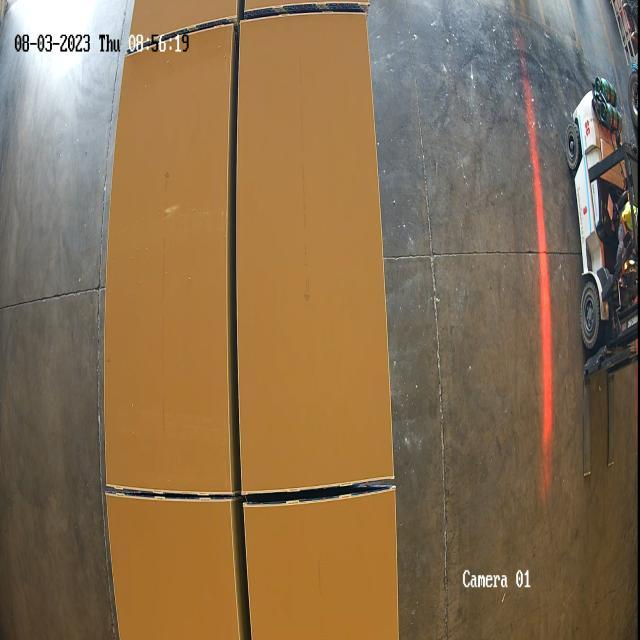forklift: (564, 70, 640, 382)
